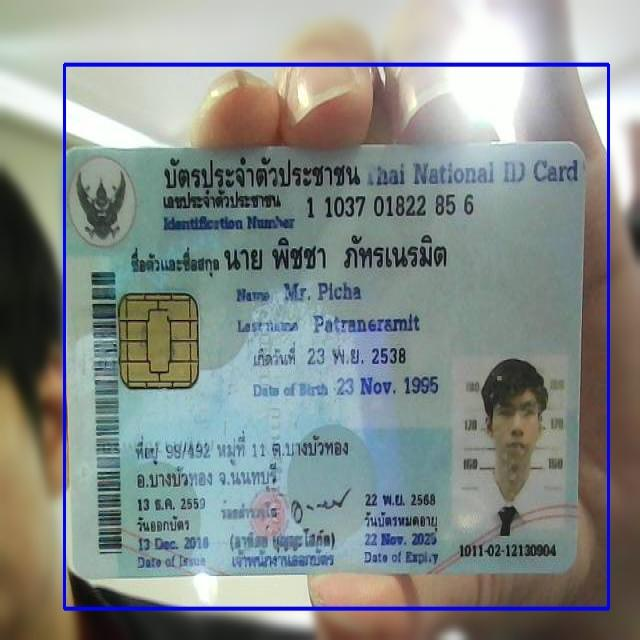Address_th: (121, 427, 360, 494)
Date_of_Birth: (335, 371, 440, 400)
Date_of_Expiry: (361, 529, 441, 552)
Date_of_Issue: (136, 530, 212, 554)
First_Name: (280, 274, 367, 308)
ID_Number: (303, 189, 479, 222)
Image: (452, 353, 566, 538)
Last_Name: (309, 310, 423, 339)
Thai_Name: (222, 226, 453, 275)
